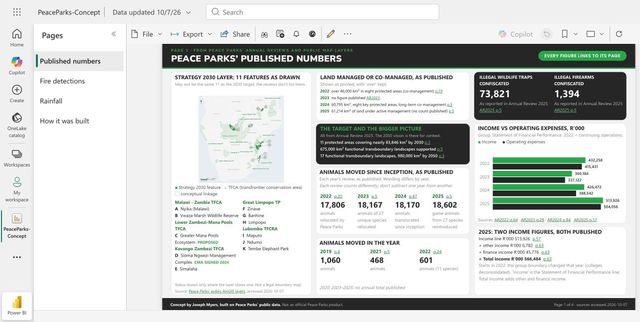

This screenshot's page, from the dashboard's own definition file:
{"tool":"powerbi","page":{"name":"Published numbers","canvas":[1280,720],"ordinal":0},"visuals":[{"type":"textbox","box":[32,79,364,60],"z":1001},{"type":"image","box":[98,140,231,236],"z":1002},{"type":"textbox","box":[32,378,364,40],"z":1003},{"type":"textbox","box":[32,418,180,222],"z":1004},{"type":"textbox","box":[216,418,180,222],"z":1005},{"type":"textbox","box":[32,640,364,37],"z":1006},{"type":"textbox","box":[424,79,400,128],"z":1007},{"type":"textbox","box":[424,219,400,104],"z":1008},{"type":"textbox","box":[424,336,400,67],"z":1009},{"type":"textbox","box":[424,402,97,113],"z":1010},{"type":"textbox","box":[525,402,97,113],"z":1011},{"type":"textbox","box":[626,402,97,113],"z":1012},{"type":"textbox","box":[727,402,97,113],"z":1013},{"type":"textbox","box":[424,527,400,24],"z":1014},{"type":"textbox","box":[424,551,130,96],"z":1015},{"type":"textbox","box":[558,551,130,96],"z":1016},{"type":"textbox","box":[692,551,130,96],"z":1017},{"type":"textbox","box":[424,649,400,26],"z":1018},{"type":"textbox","box":[852,80,196,122],"z":1019},{"type":"textbox","box":[1054,80,196,122],"z":1020},{"type":"textbox","box":[852,217,396,67],"z":1021},{"type":"clusteredBarChart","fields":{"Category":["P1_Finance5.YearLabel"],"Series":["P1_Finance5.Line"],"Y":["P1_Finance5.Finance R000"]},"box":[852,285,396,179],"z":1022},{"type":"textbox","box":[852,465,396,19],"z":1023},{"type":"textbox","box":[852,497,396,180],"z":1024},{"type":"textbox","box":[0,688,860,32],"z":1900},{"type":"textbox","box":[860,688,420,32],"z":1901}]}

Visuals, with their boxes on the page's 1280x720 design canvas (x1, y1, x2, y2). These are canvas units, not pixel positions in the 640x322 screenshot, which may show the page scaled, cropped or inside an application window:
textbox: 32 79 396 139
image: 98 140 329 376
textbox: 32 378 396 418
textbox: 32 418 212 640
textbox: 216 418 396 640
textbox: 32 640 396 677
textbox: 424 79 824 207
textbox: 424 219 824 323
textbox: 424 336 824 403
textbox: 424 402 521 515
textbox: 525 402 622 515
textbox: 626 402 723 515
textbox: 727 402 824 515
textbox: 424 527 824 551
textbox: 424 551 554 647
textbox: 558 551 688 647
textbox: 692 551 822 647
textbox: 424 649 824 675
textbox: 852 80 1048 202
textbox: 1054 80 1250 202
textbox: 852 217 1248 284
clusteredBarChart - P1_Finance5.YearLabel x P1_Finance5.Line: 852 285 1248 464
textbox: 852 465 1248 484
textbox: 852 497 1248 677
textbox: 0 688 860 720
textbox: 860 688 1280 720
